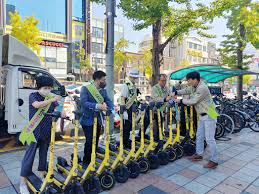kick_wheel: (84, 177, 100, 194), (99, 172, 114, 188), (115, 166, 129, 183), (130, 162, 140, 179), (140, 158, 149, 174), (149, 154, 158, 168), (159, 151, 168, 165), (168, 148, 176, 162), (175, 145, 183, 158)
